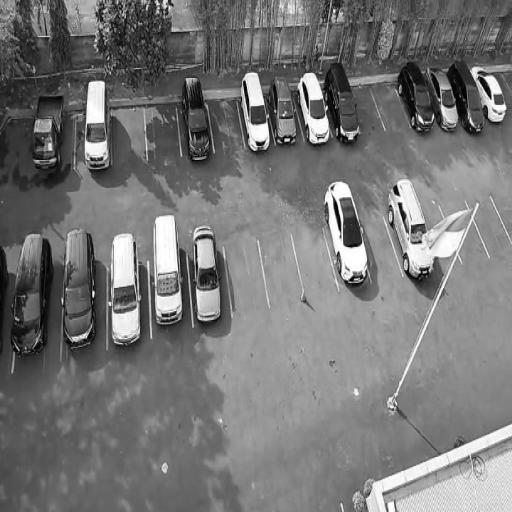Car: (315, 170, 376, 298), (379, 167, 442, 284), (7, 227, 54, 369), (55, 220, 98, 350), (147, 206, 188, 334), (103, 228, 146, 346), (390, 49, 442, 139), (319, 51, 365, 146), (442, 55, 490, 139), (24, 80, 68, 171), (235, 66, 275, 165), (178, 71, 214, 170), (190, 218, 222, 329), (421, 57, 465, 135), (295, 68, 335, 150), (264, 68, 303, 149), (81, 81, 113, 175), (469, 61, 511, 126)
Space Available: (224, 236, 269, 319), (259, 233, 304, 311), (291, 226, 339, 297), (440, 201, 490, 265), (358, 216, 402, 282), (467, 191, 511, 254), (420, 207, 461, 272), (110, 100, 148, 163), (207, 93, 246, 154), (143, 100, 180, 162), (368, 81, 409, 127), (350, 85, 385, 136), (492, 193, 512, 243)
